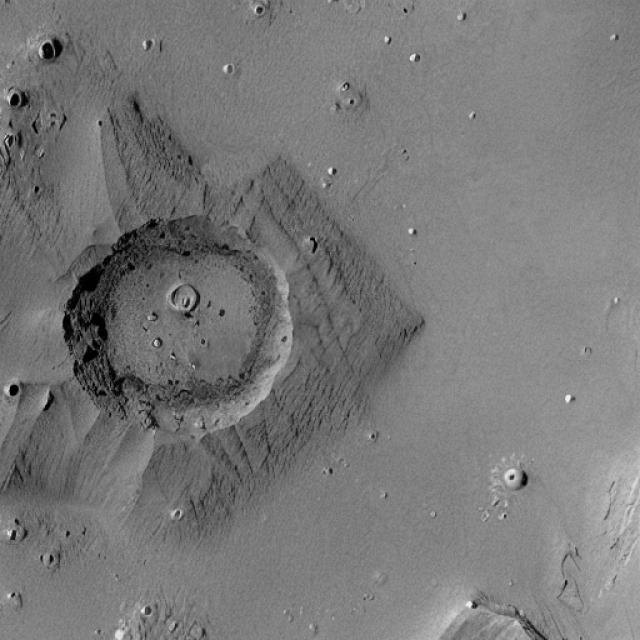crater: (64, 214, 294, 436)
